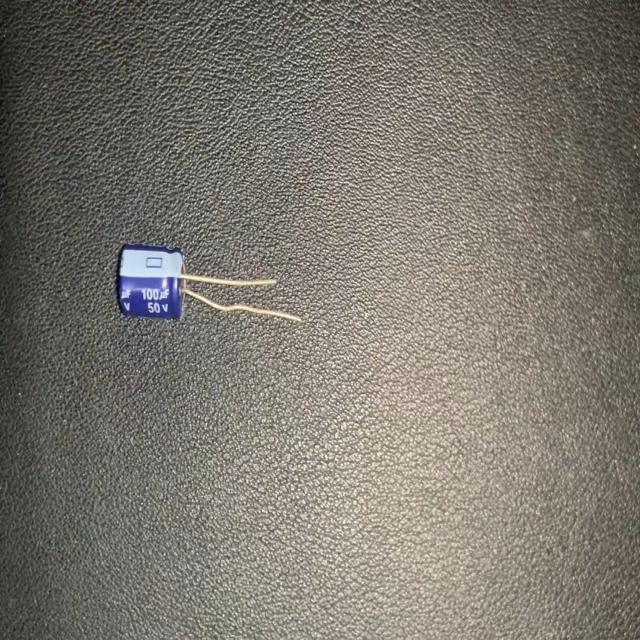capacitor: (116, 241, 304, 328)
